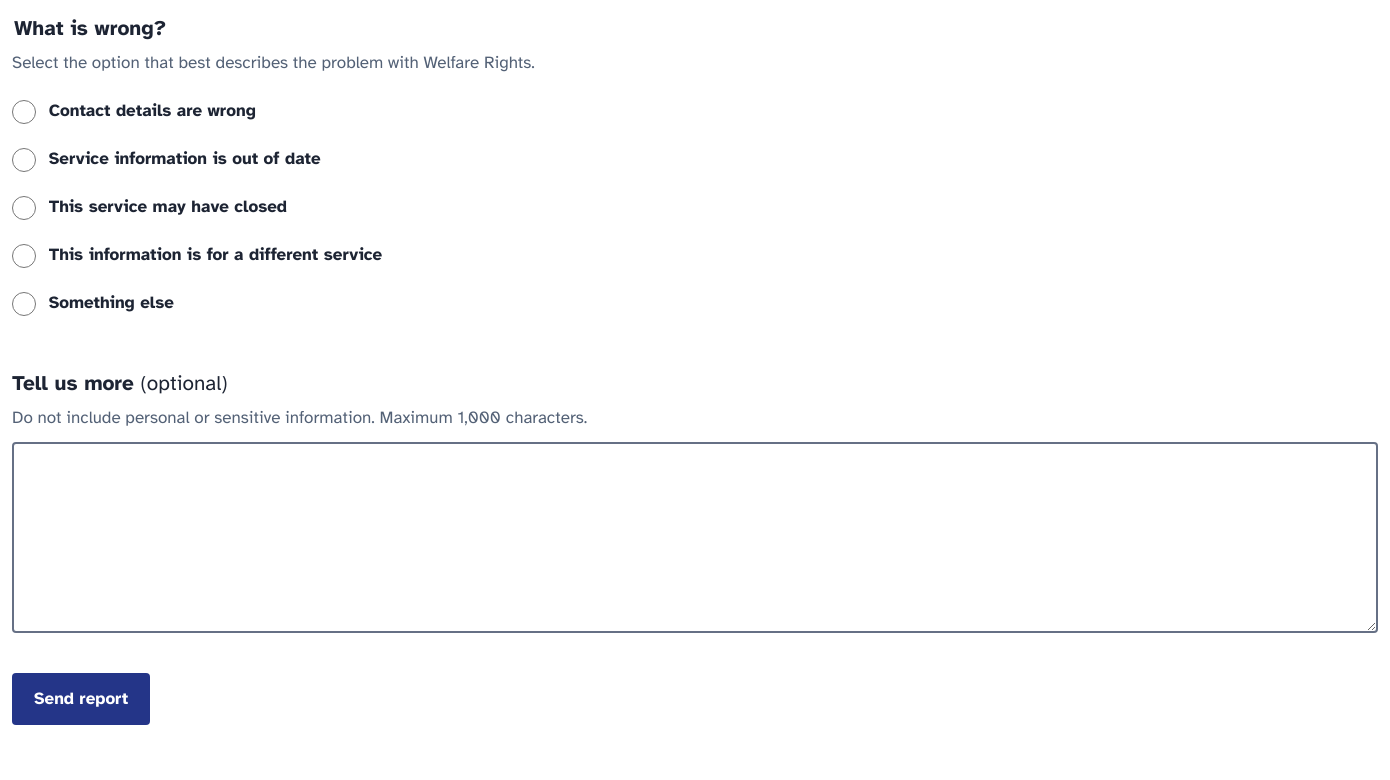
Test: ReportForm › submits the server-owned entry identifier and shows the random reference
Click the radio button labelled "Service information is out of date" at (24, 160), box x1=12 y1=148 x2=36 y2=172
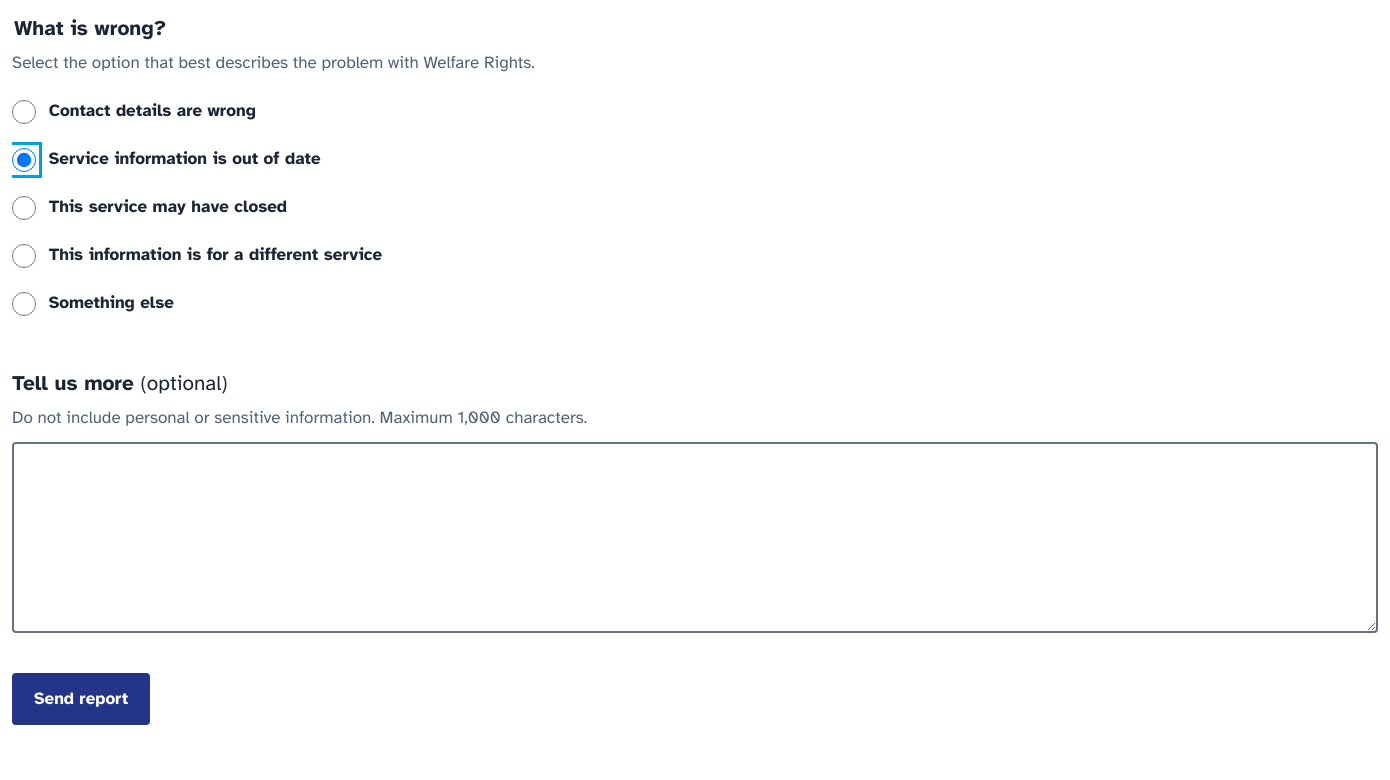
Type "Publisher page changed." into the text box labelled "Tell us more (optional)" at (695, 537), box x1=12 y1=442 x2=1378 y2=633
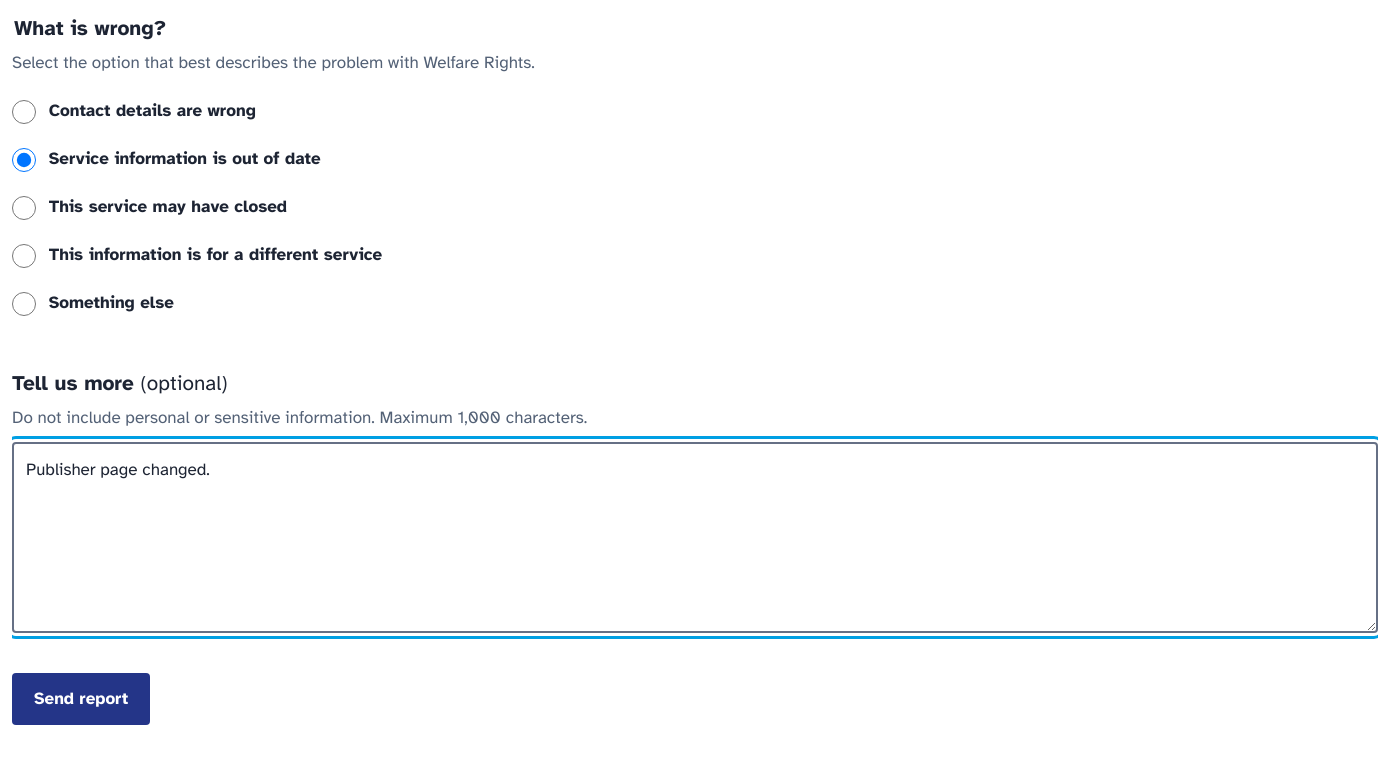
Click the button "Send report" at (81, 699), box x1=12 y1=673 x2=150 y2=725
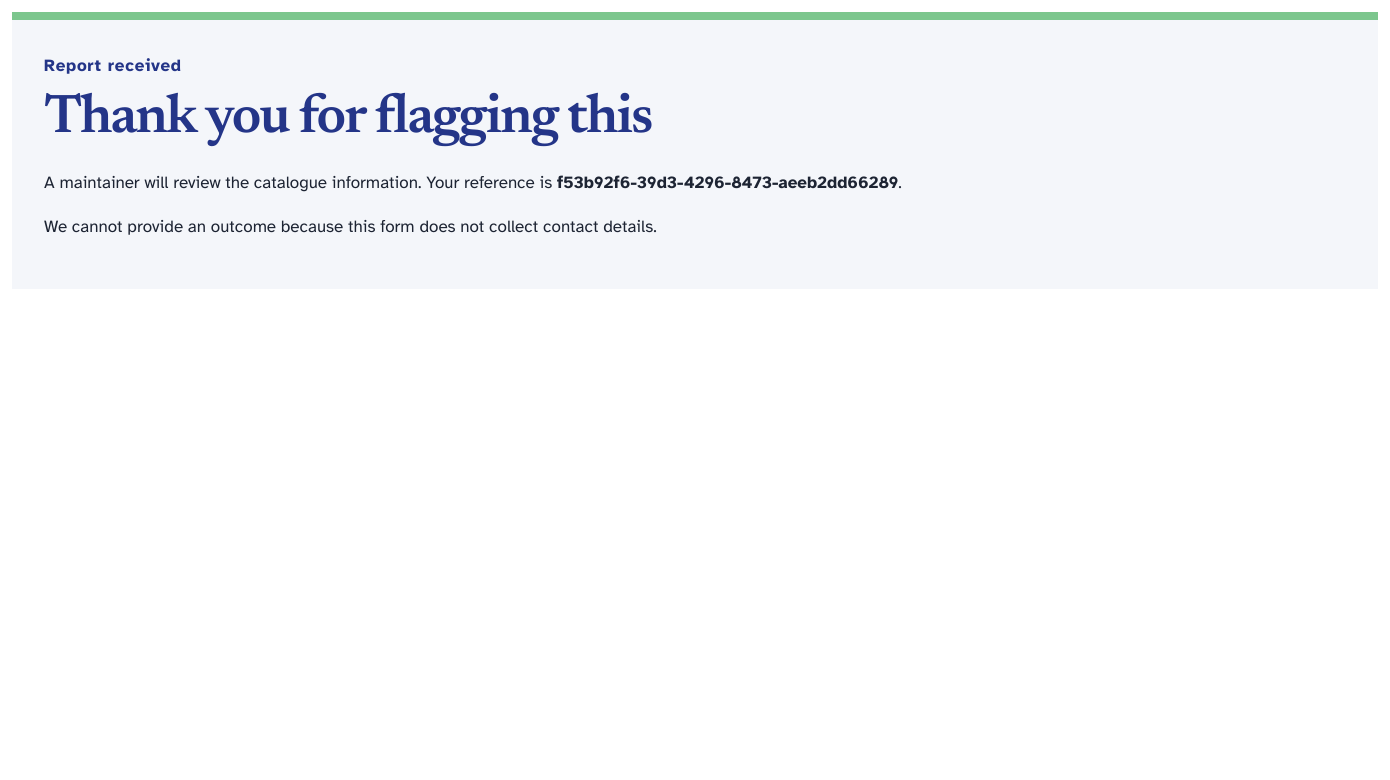
Check: the text "f53b92f6-39d3-4296-8473-aeeb2dd66289" is shown, box x1=557 y1=172 x2=898 y2=192
